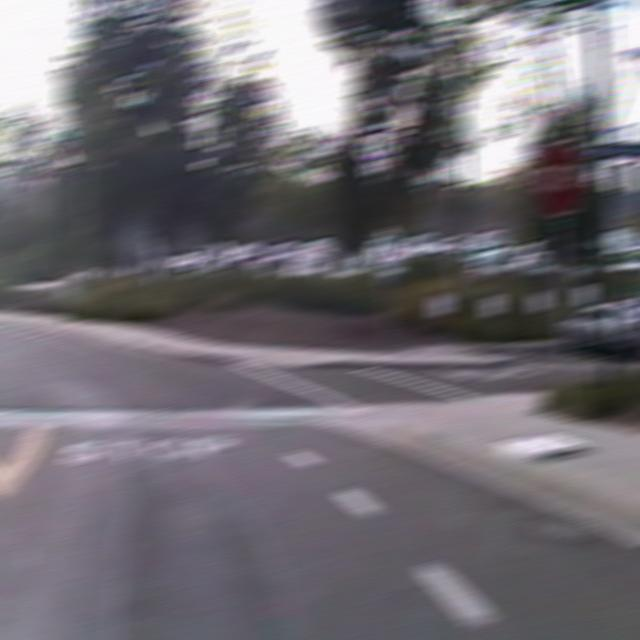stop_sign: (527, 140, 589, 216)
